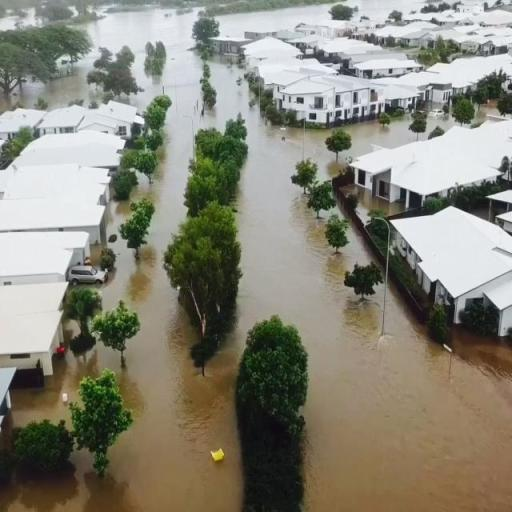flood: (0, 9, 512, 512), (216, 4, 332, 36), (345, 0, 423, 20), (0, 7, 42, 30), (106, 200, 130, 237), (422, 116, 456, 139), (478, 105, 498, 120)
house: (380, 193, 512, 345), (350, 122, 505, 214), (2, 192, 111, 246), (0, 282, 66, 367), (276, 74, 376, 128), (344, 51, 420, 82), (38, 104, 84, 135), (92, 108, 134, 136), (212, 33, 244, 61), (457, 29, 485, 55), (427, 84, 451, 110)
